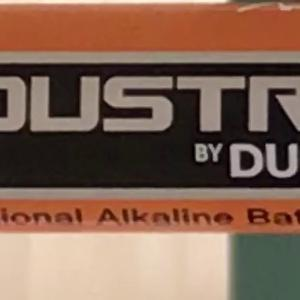keyword: (89, 199, 156, 232)
